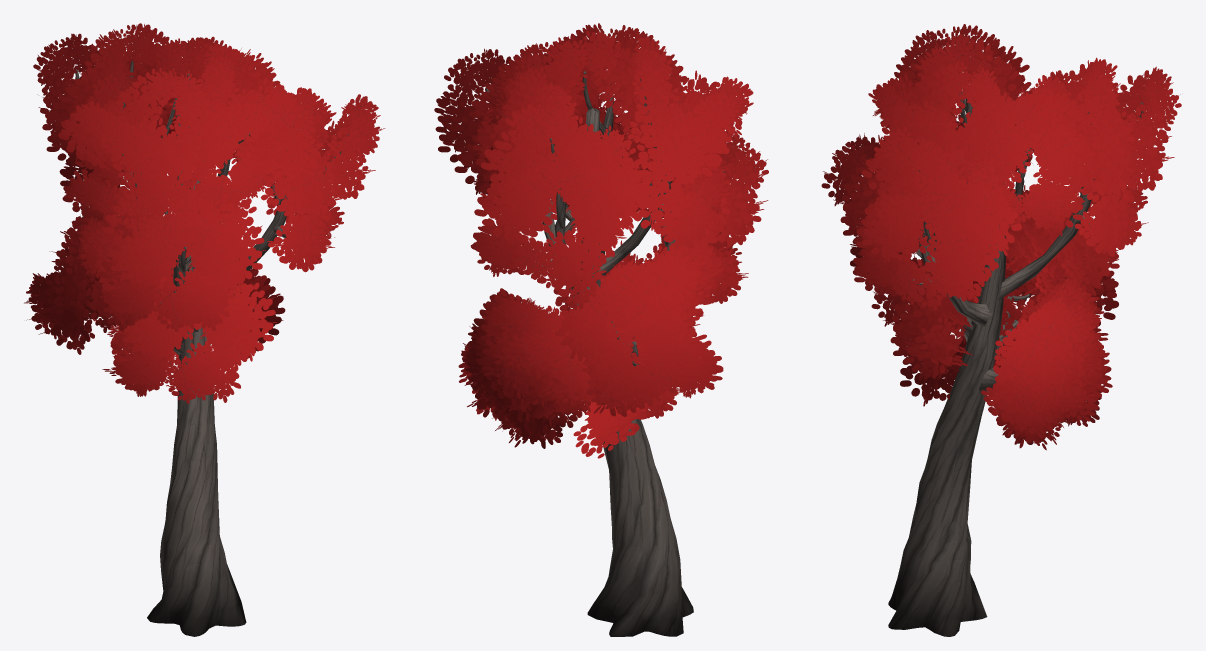
File: twisted-tree-5.glb
3 renders of one model, left to right at view 1: azimuth 30°, elevation 25°; view 2: azimuth 150°, elevation 25°; view 3: azimuth 270°, elevation 25°, orthographic. The views are drawn at different scales.
Visible parts, largest first — view 1: TwistedTree_5; view 2: TwistedTree_5; view 3: TwistedTree_5.
Part boxes in pixels (x1,y1,x2,y2): TwistedTree_5: (24,23,385,636); TwistedTree_5: (434,23,768,636); TwistedTree_5: (821,24,1181,636).
Bounding box in the file's own units: 9.49 × 15.66 × 9.39.
Materials: 2 (2 with a texture image).
